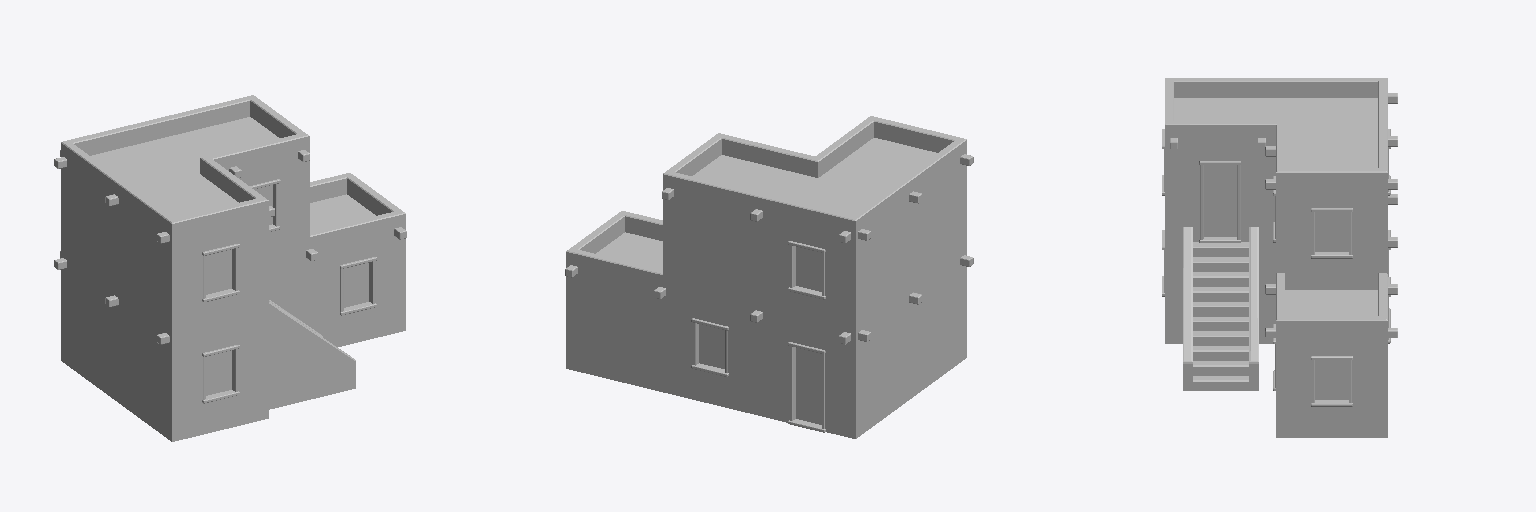
Rendered from House2.obj.
3 views of the same model, side by side, from view 1: azimuth 30°, elevation 25°; view 2: azimuth 150°, elevation 25°; view 3: azimuth 270°, elevation 25° (orthographic).
Visible parts, largest first — view 1: default; view 2: default; view 3: default.
Boxes of the visible parts, <box> form: default: <box>54,95,406,441</box>; default: <box>565,116,973,438</box>; default: <box>1162,78,1397,437</box>.
Bounding box in the file's own units: 187 × 130 × 127.